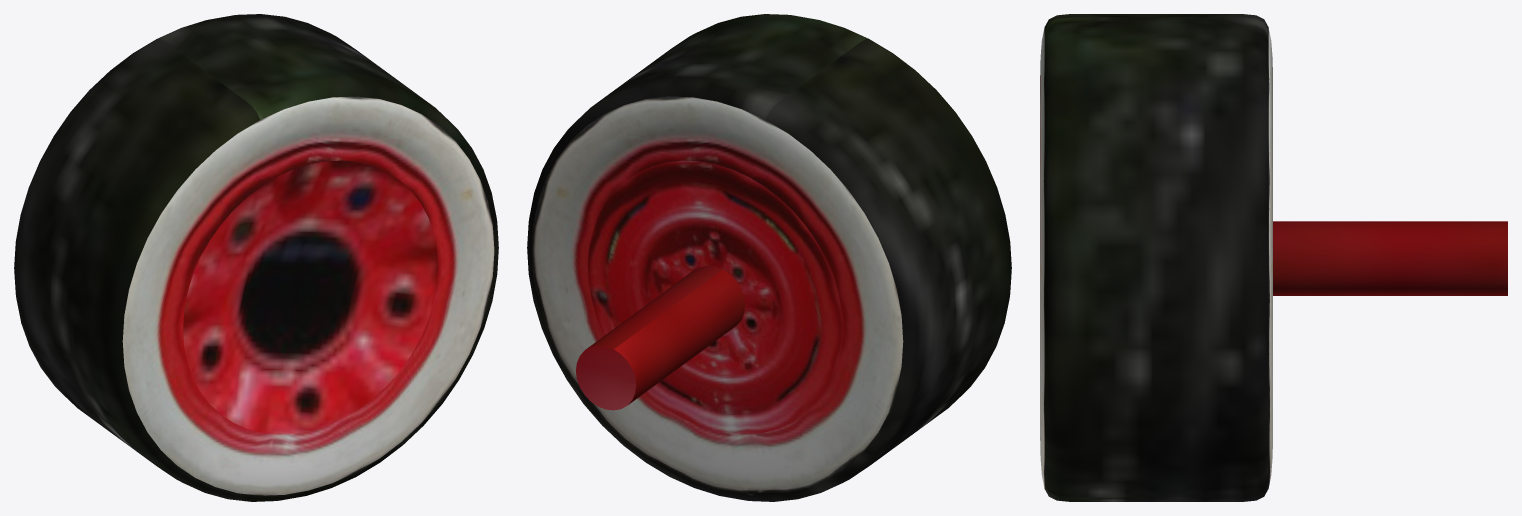
File: LlantaDD.obj
The picture shows the model from 3 angles, left to right: view 1: azimuth 30°, elevation 25°; view 2: azimuth 150°, elevation 25°; view 3: azimuth 270°, elevation 25°; orthographic projection. The views are drawn at different scales.
Parts seen in each view (by area): view 1: LLantaTD; view 2: LLantaTD; view 3: LLantaTD.
Part boxes in pixels (x1=…): LLantaTD: x1=14, y1=14, x2=498, y2=501; LLantaTD: x1=527, y1=14, x2=1011, y2=501; LLantaTD: x1=1040, y1=14, x2=1507, y2=501.
Bounding box in the file's own units: 2.77 × 2.76 × 2.65.
